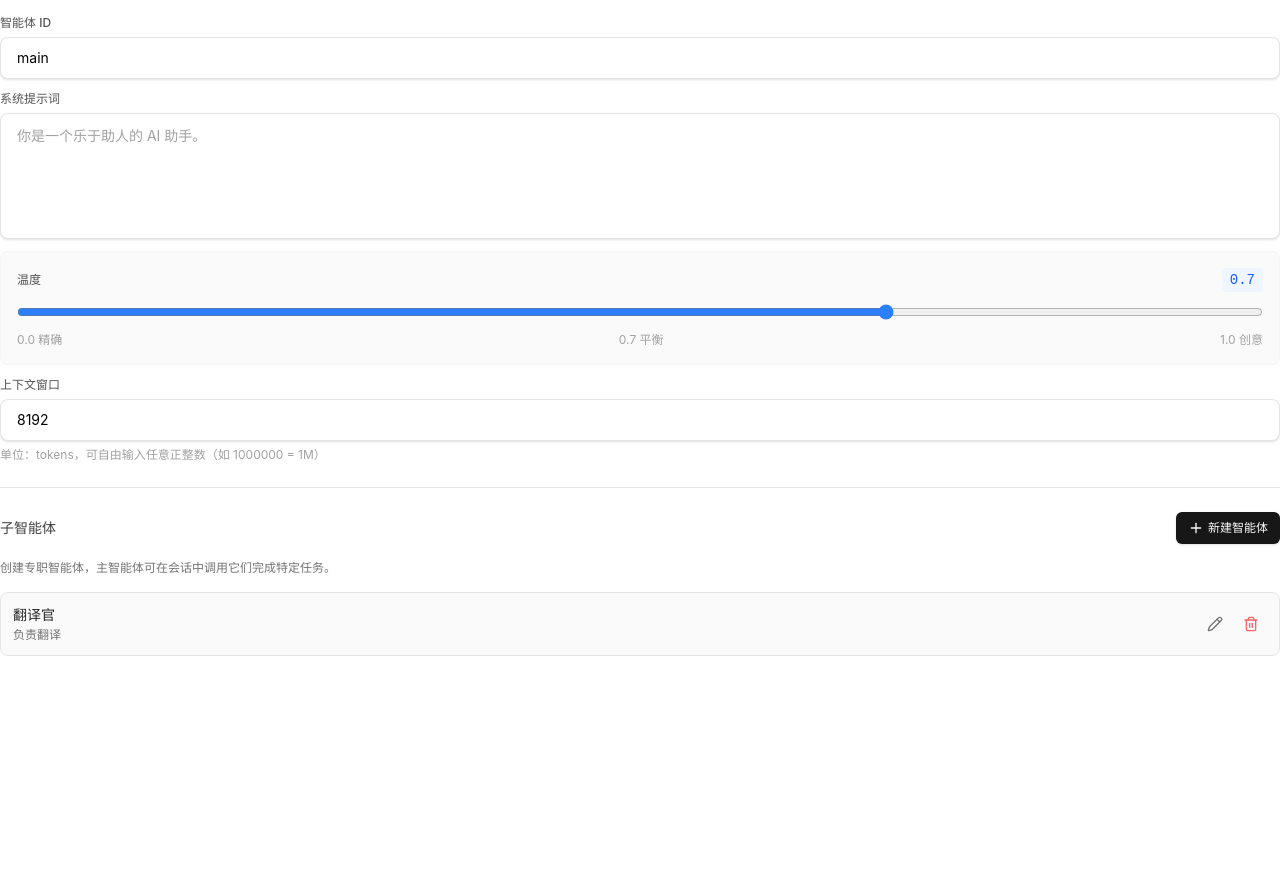
AgentsManager › loads system_prompt only when editing
Check: the text "翻译官" is shown, box x1=13 y1=605 x2=55 y2=625
Check: the text "你是专业翻译。" is not shown
Step 1. Click the button named "编辑 翻译官" → (1215, 624), box x1=1199 y1=608 x2=1231 y2=640
(page scrolled)
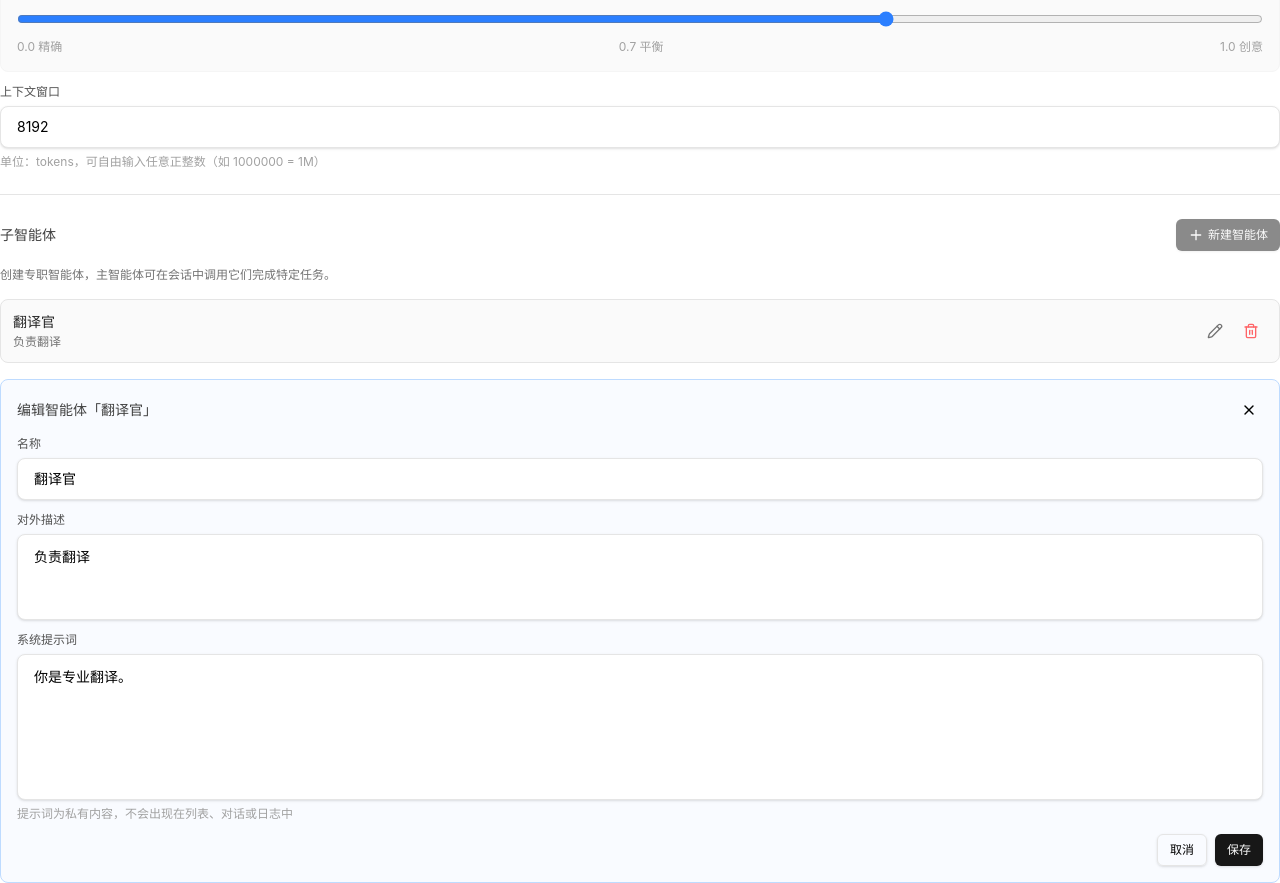
Check: the text box labelled "系统提示词" holds "你是专业翻译。", box x1=17 y1=654 x2=1263 y2=800
